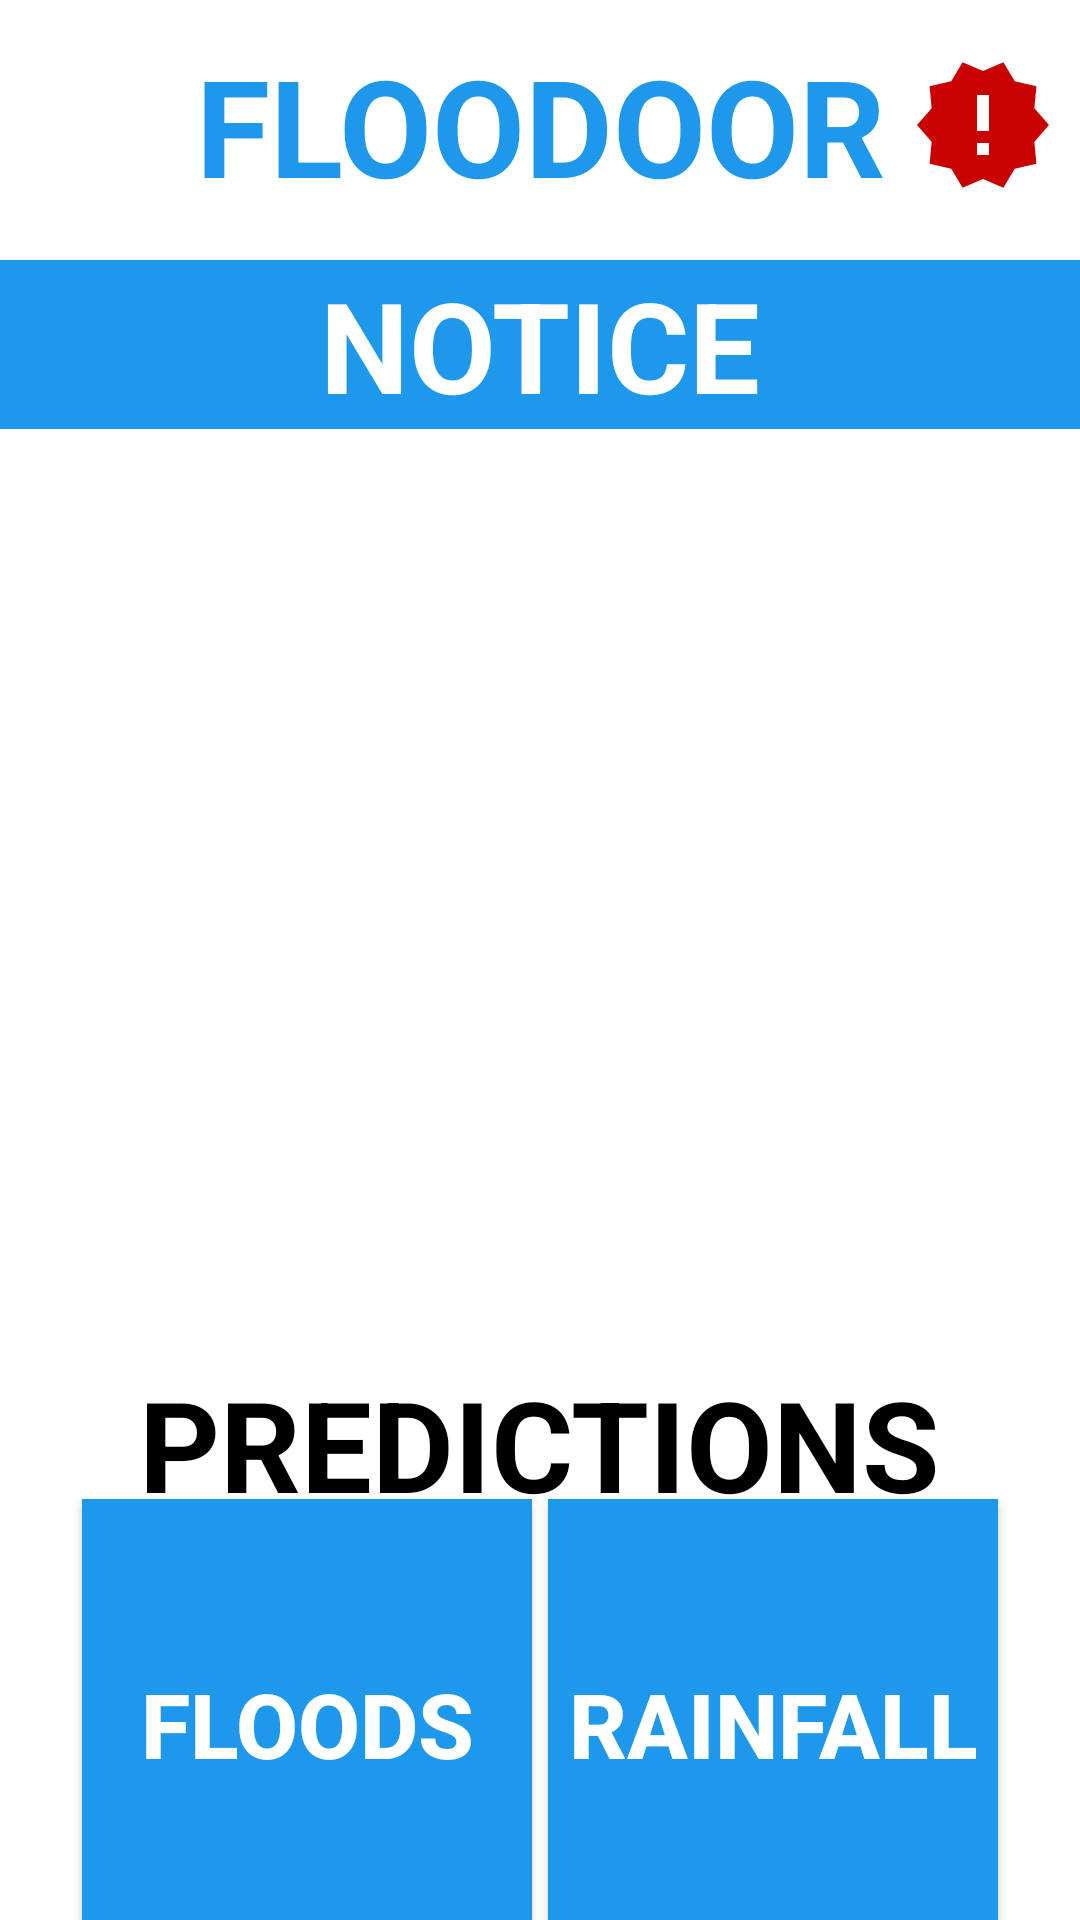

Icons on this 1080x1920 Android screen, each with the point to tap as (x=x, y=y):
alert: (x=983, y=125)
